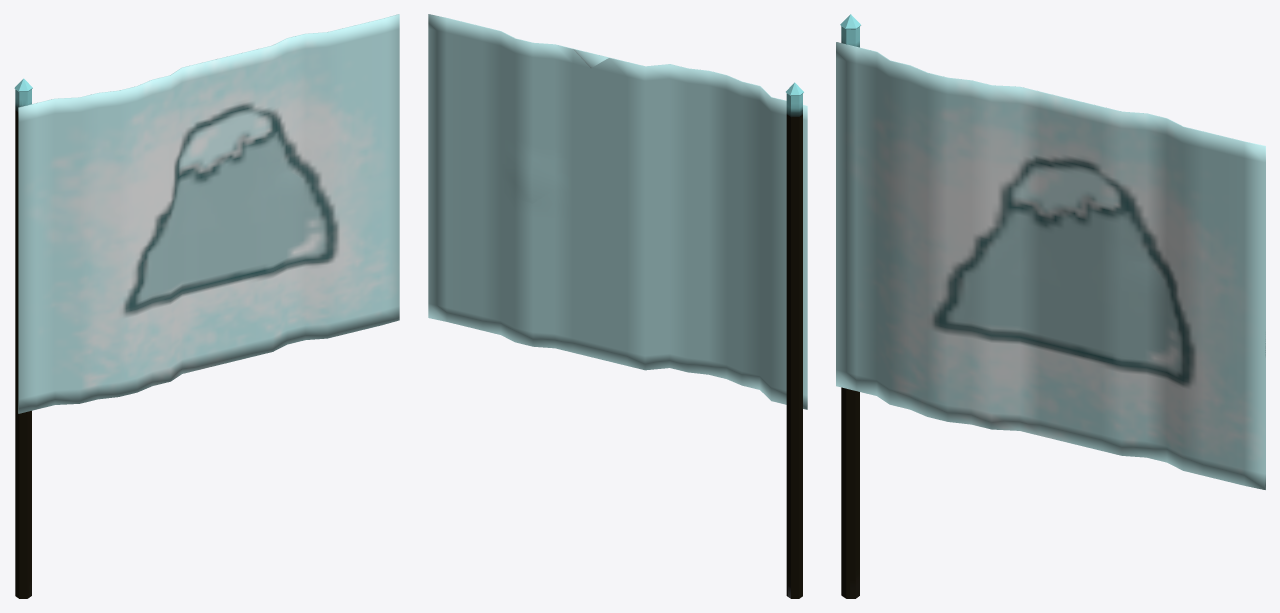
The model's file is bandeiraAzul.fbx.
3 views of the same model, side by side, from view 1: azimuth 30°, elevation 25°; view 2: azimuth 150°, elevation 25°; view 3: azimuth 330°, elevation 25° (orthographic). The views are drawn at different scales.
Parts seen in each view (by area): view 1: bandeirabranca; view 2: bandeirabranca; view 3: bandeirabranca.
Boxes of the visible parts, x1,y1,x2,y2 form: bandeirabranca: (14, 14, 399, 598); bandeirabranca: (428, 14, 807, 598); bandeirabranca: (836, 14, 1265, 598).
Bounding box in the file's own units: 1.58 × 2.04 × 0.1294.
1 material, 1 textured.
